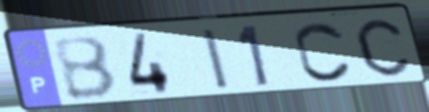1: (233, 23, 273, 90)
4: (128, 31, 174, 97)
B: (49, 34, 121, 102)
C: (293, 20, 356, 84), (353, 17, 413, 79)
I: (199, 26, 234, 93)
